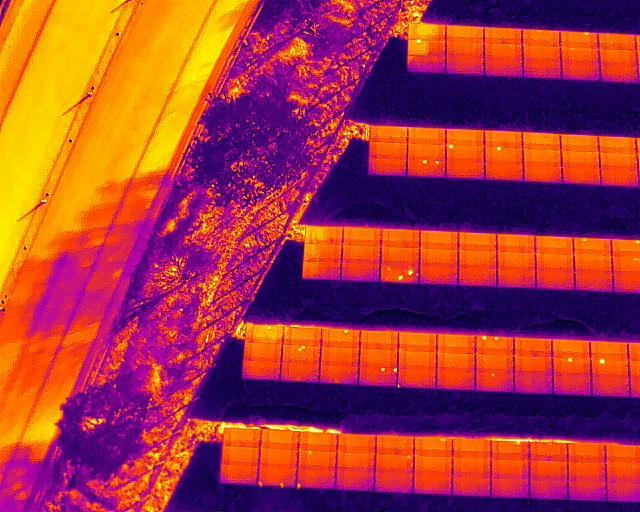Cell: (297, 467, 336, 488), (476, 371, 514, 392), (414, 437, 452, 457), (491, 442, 530, 461), (299, 450, 336, 469), (574, 238, 612, 256), (561, 30, 599, 48), (376, 454, 414, 471), (323, 330, 360, 347), (553, 358, 590, 375), (591, 358, 628, 375), (247, 327, 283, 344), (485, 146, 523, 162), (409, 40, 446, 56), (446, 145, 484, 160)
Cell-Multi: (380, 264, 420, 284), (257, 467, 296, 487), (359, 366, 397, 386), (407, 159, 445, 178), (476, 336, 513, 355), (283, 345, 320, 363)
No-Anomaly: (514, 372, 552, 394), (592, 374, 630, 396), (375, 471, 413, 493), (414, 473, 452, 495), (452, 475, 490, 497), (491, 459, 530, 480), (553, 374, 591, 395), (530, 461, 568, 482), (336, 470, 374, 491), (536, 270, 575, 290), (282, 362, 319, 383), (569, 462, 606, 483), (497, 269, 535, 289), (398, 332, 436, 352), (437, 334, 475, 354), (398, 368, 436, 388), (437, 370, 475, 390), (491, 478, 529, 498), (444, 56, 484, 75), (381, 229, 420, 248), (341, 263, 380, 282), (320, 364, 357, 384), (605, 481, 640, 502), (600, 152, 638, 171), (446, 159, 484, 178), (343, 228, 381, 247), (420, 231, 458, 250), (536, 236, 574, 255), (575, 272, 613, 291), (360, 331, 398, 350), (437, 352, 475, 371), (243, 361, 281, 380), (452, 458, 490, 477), (530, 481, 568, 500), (568, 482, 606, 501), (562, 61, 600, 80), (601, 63, 639, 82), (514, 338, 551, 357), (322, 347, 359, 366), (530, 443, 567, 462), (261, 449, 298, 468), (302, 261, 341, 279), (398, 351, 437, 369), (223, 447, 258, 467), (408, 128, 446, 146), (562, 150, 600, 168), (369, 157, 407, 175), (485, 162, 523, 180), (524, 165, 562, 183), (459, 232, 497, 250), (497, 234, 535, 252), (303, 244, 341, 262), (342, 245, 380, 263), (420, 249, 458, 267), (459, 250, 497, 268), (420, 267, 458, 285), (245, 343, 281, 362), (360, 349, 398, 367), (514, 356, 552, 374), (338, 435, 374, 454), (376, 436, 414, 454), (453, 440, 491, 458), (414, 456, 452, 474), (485, 59, 523, 77), (599, 136, 636, 154), (306, 227, 343, 245), (459, 268, 496, 286), (553, 340, 590, 358), (568, 445, 605, 463), (221, 466, 258, 484), (408, 54, 445, 72), (522, 132, 561, 149), (523, 149, 562, 166), (263, 432, 299, 450), (561, 135, 599, 152), (563, 167, 601, 184), (601, 170, 639, 187), (381, 247, 419, 264), (497, 252, 535, 269), (536, 254, 574, 271), (574, 255, 612, 272), (606, 463, 640, 482), (524, 61, 562, 78), (445, 40, 485, 56), (485, 130, 522, 147), (284, 328, 321, 345), (590, 341, 627, 358), (476, 354, 513, 371), (599, 33, 636, 50), (338, 452, 375, 469), (523, 45, 560, 62), (225, 430, 261, 447), (606, 446, 640, 464), (446, 129, 484, 145), (446, 25, 484, 41), (483, 27, 521, 43), (409, 24, 446, 40), (300, 434, 337, 450), (369, 143, 407, 158), (408, 144, 446, 159), (484, 43, 522, 58), (561, 46, 599, 61), (599, 49, 637, 64), (370, 127, 407, 142), (523, 32, 560, 46)
